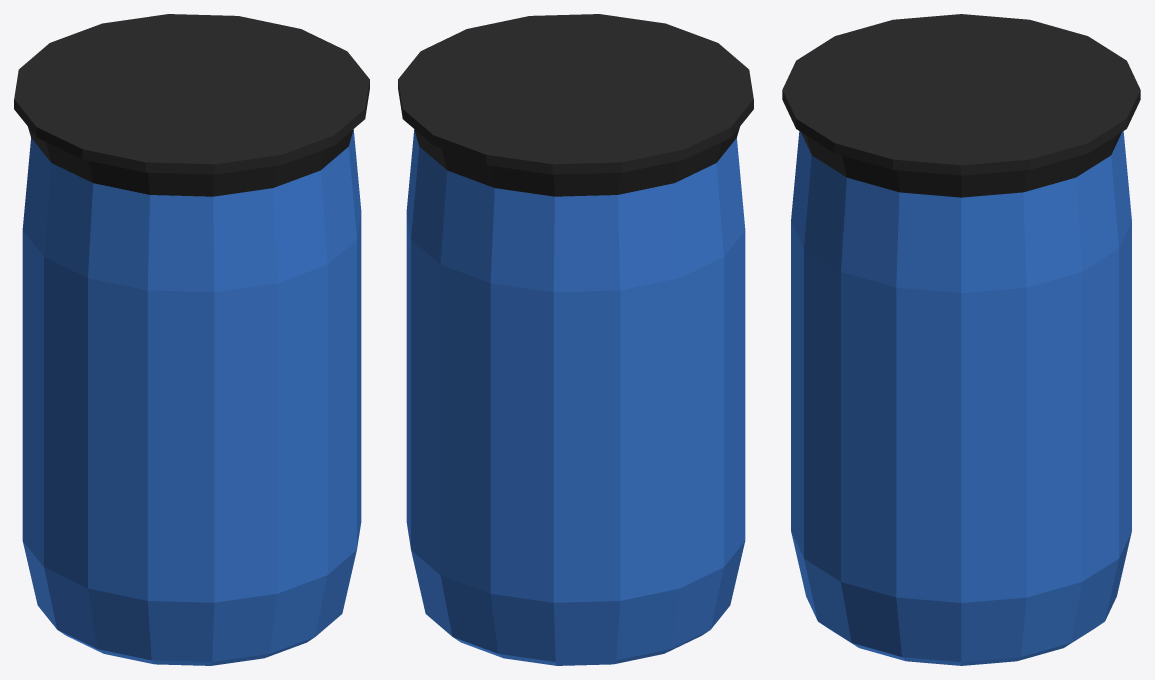
The model's file is plastic-barrel.fbx.
The picture shows the model from 3 angles, left to right: view 1: azimuth 30°, elevation 25°; view 2: azimuth 150°, elevation 25°; view 3: azimuth 270°, elevation 25°; orthographic projection.
Visible parts, largest first — view 1: Cylinder; view 2: Cylinder; view 3: Cylinder.
Boxes of the visible parts, x1,y1,x2,y2 form: Cylinder: (14,14,369,665); Cylinder: (398,14,753,665); Cylinder: (782,14,1140,665).
Size of the model in its own units: 12285 by 19500 by 12285.
